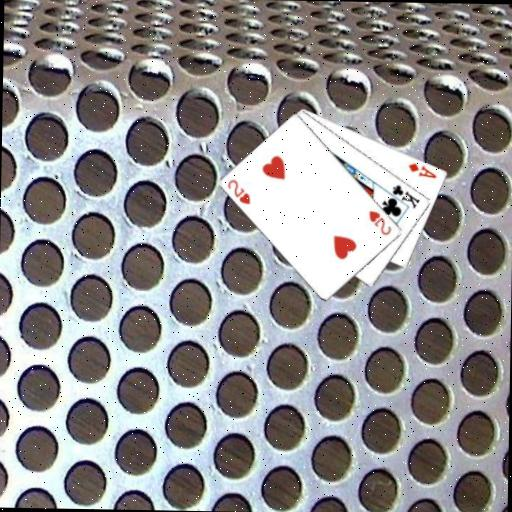2H: (366, 208, 394, 237), (225, 177, 253, 206)
AD: (406, 160, 439, 181)
KC: (384, 182, 422, 210)
